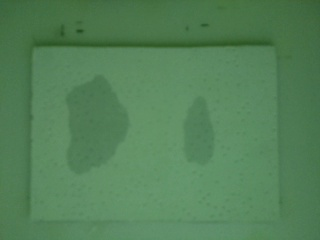Water_detected: (76, 98, 116, 162), (186, 124, 217, 154)
